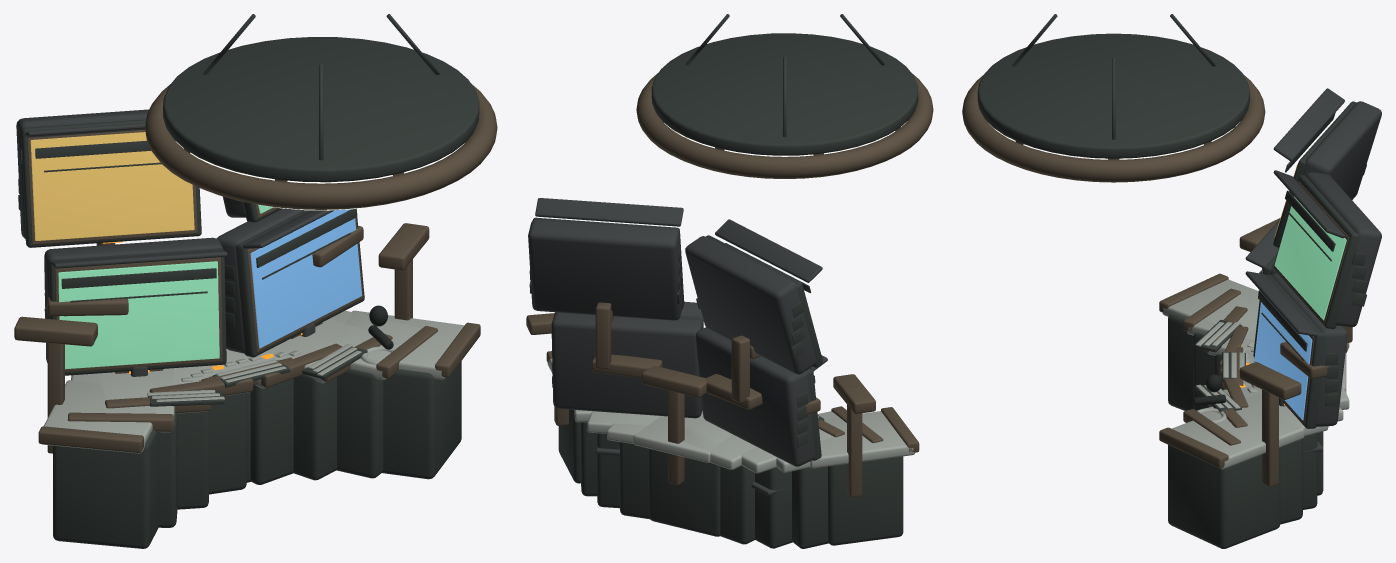
Rendered from cctv_console_v2.glb.
3 views of the same model, side by side, from view 1: azimuth 30°, elevation 25°; view 2: azimuth 150°, elevation 25°; view 3: azimuth 270°, elevation 25° (orthographic). The views are drawn at different scales.
Visible parts, largest first — view 1: DrumTop, MonScreen_2, MonScreen_0, DrumRim, DeskBody_0, MonScreen_1, DeskBody_8, DeskBody_7, DeskBody_6, DeskBody_5, DeskBody_3, Desk_0 (+36 smaller); view 2: DrumTop, MonBody_3, MonBody_1, MonBody_2, MonBody_0, DrumRim, DeskBody_0, DeskBody_4, MonHood_3, DeskBody_1, Desk_0, DeskBody_2 (+24 smaller); view 3: DrumTop, DeskBody_8, DrumRim, MonScreen_3, MonBody_2, MonBody_3, Desk_8, MonScreen_1, DeskBody_0, Desk_0, MonBody_1, MonHood_2 (+20 smaller).
Boxes of the visible parts, left/top/right/bottom form: DrumTop: left=163, top=37, right=479, bottom=182; MonScreen_2: left=30, top=132, right=194, bottom=240; MonScreen_0: left=58, top=261, right=219, bottom=369; DrumRim: left=145, top=83, right=497, bottom=209; DeskBody_0: left=53, top=429, right=159, bottom=548; MonScreen_1: left=250, top=209, right=362, bottom=348; DeskBody_8: left=382, top=361, right=461, bottom=479; DeskBody_7: left=336, top=369, right=383, bottom=478; DeskBody_6: left=293, top=374, right=336, bottom=480; DeskBody_5: left=250, top=378, right=293, bottom=484; DeskBody_3: left=209, top=393, right=246, bottom=494; Desk_0: left=41, top=380, right=156, bottom=453; DrumTop: left=651, top=33, right=918, bottom=155; MonBody_3: left=528, top=219, right=683, bottom=320; MonBody_1: left=551, top=312, right=702, bottom=418; MonBody_2: left=685, top=236, right=816, bottom=374; MonBody_0: left=695, top=327, right=815, bottom=466; DrumRim: left=636, top=73, right=933, bottom=178; DeskBody_0: left=828, top=456, right=903, bottom=545; DeskBody_4: left=649, top=448, right=720, bottom=536; MonHood_3: left=535, top=198, right=683, bottom=226; DeskBody_1: left=792, top=466, right=828, bottom=548; Desk_0: left=810, top=411, right=914, bottom=468; DeskBody_2: left=755, top=467, right=792, bottom=548; DrumTop: left=977, top=33, right=1249, bottom=158; DeskBody_8: left=1168, top=445, right=1280, bottom=548; DrumRim: left=962, top=74, right=1265, bottom=182; MonScreen_3: left=1274, top=196, right=1346, bottom=320; MonBody_2: left=1303, top=101, right=1381, bottom=199; MonBody_3: left=1305, top=172, right=1381, bottom=327; Desk_8: left=1172, top=408, right=1304, bottom=469; MonScreen_1: left=1254, top=302, right=1312, bottom=420; DeskBody_0: left=1168, top=314, right=1193, bottom=410; Desk_0: left=1162, top=279, right=1259, bottom=333; MonBody_1: left=1271, top=273, right=1347, bottom=426; MonHood_2: left=1273, top=88, right=1344, bottom=161.
Bounding box in the file's own units: 3.28 × 3.61 × 3.14.
